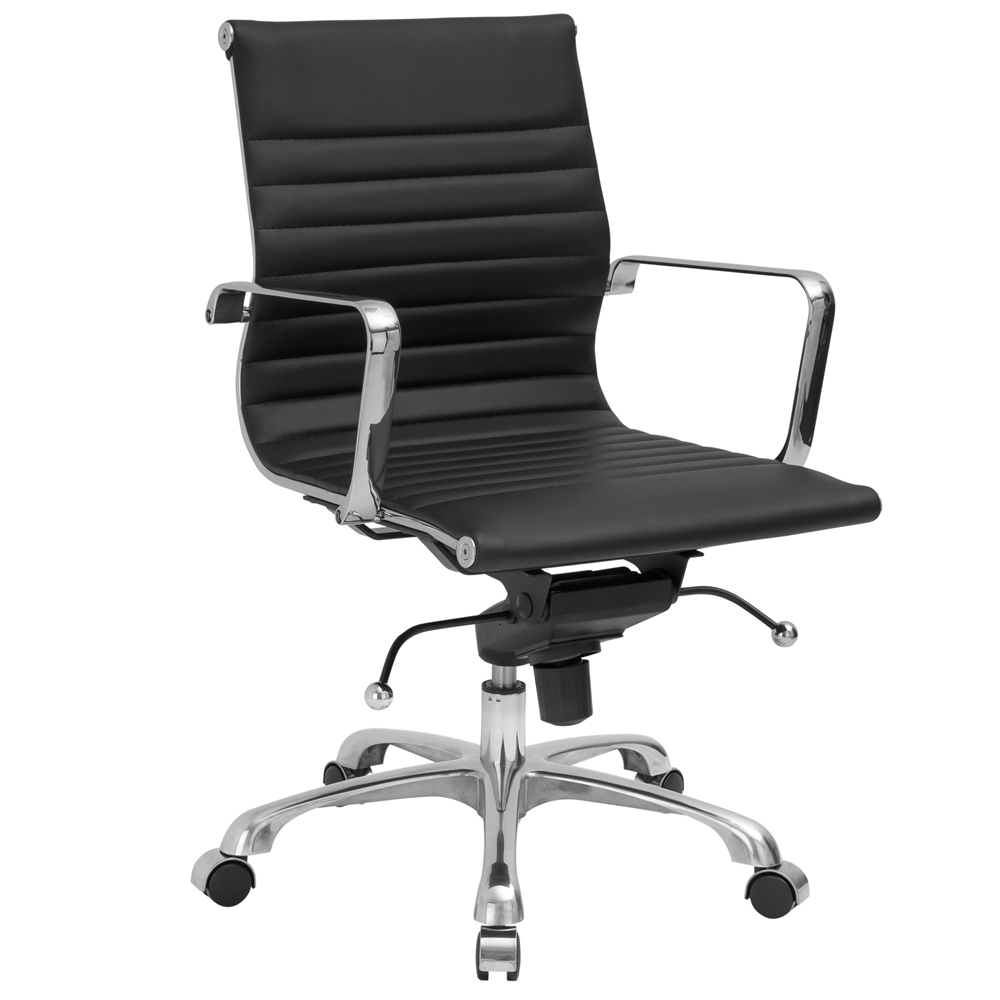chairs: (199, 1, 884, 984)
